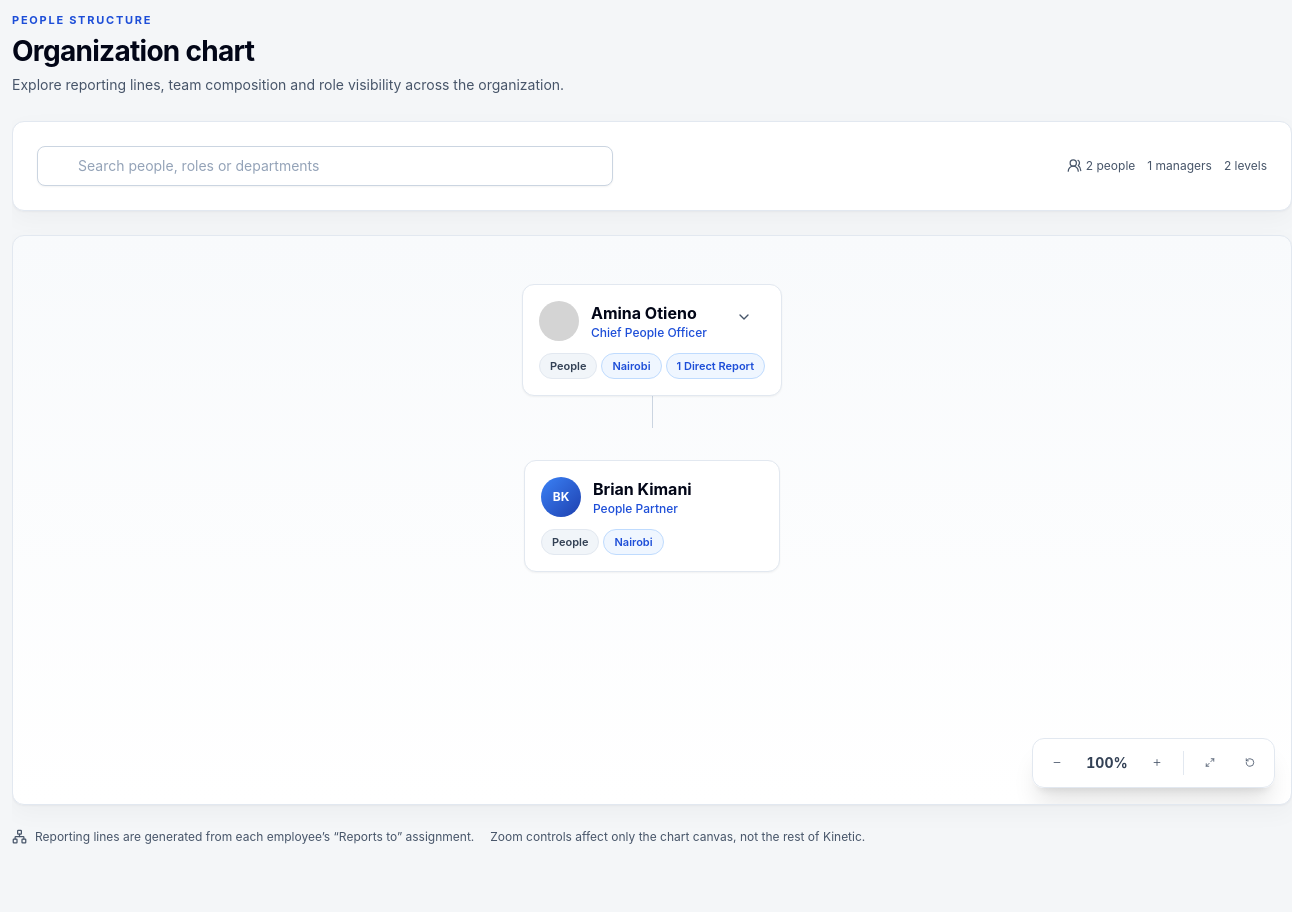
Scenario: resets the organization chart zoom to 100 percent
Expected: the link "Amina Otieno" is shown, [591,300,711,324]
Click the button named "Zoom out organization chart".
click(1057, 762)  # box [1039,744,1075,780]
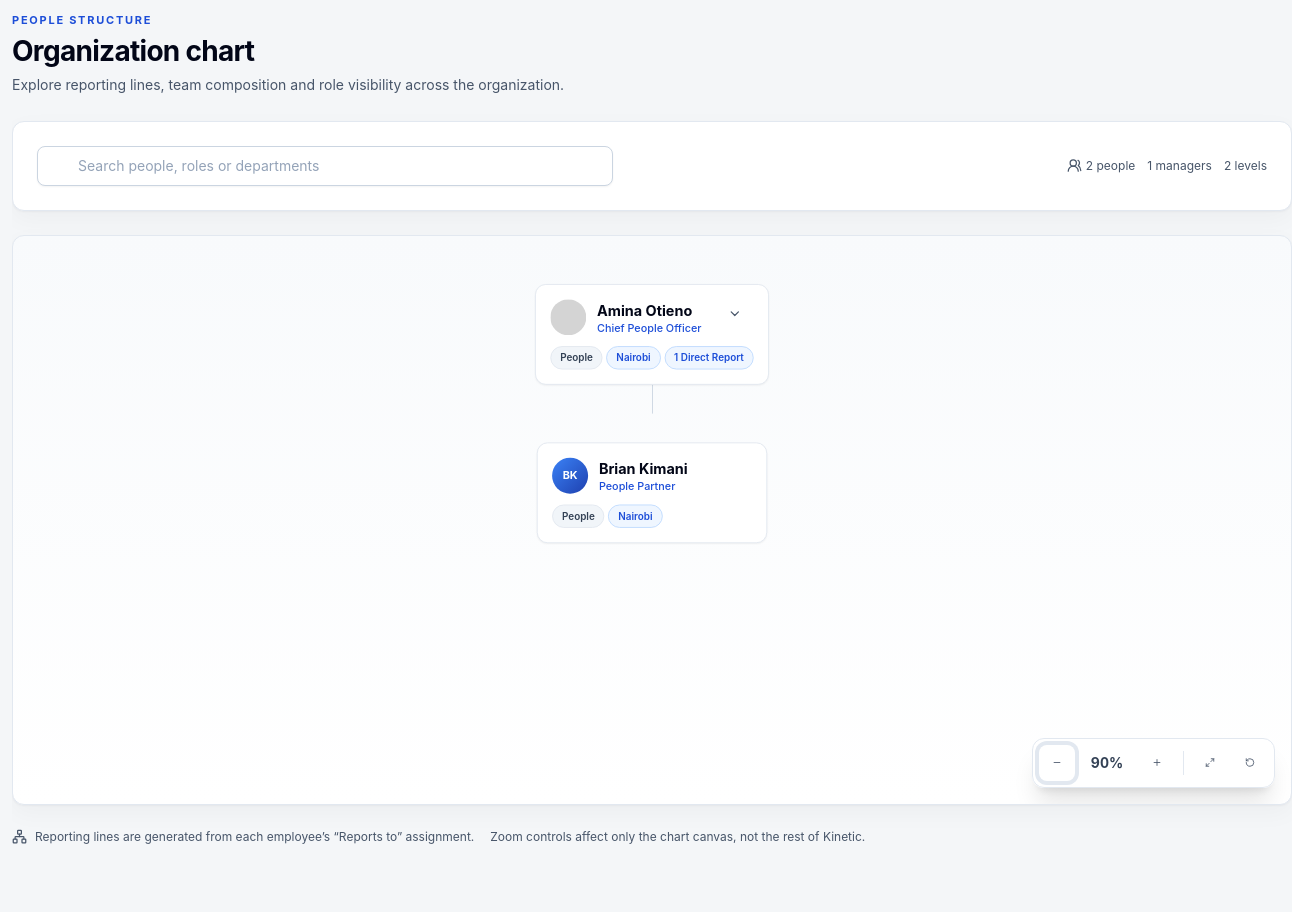
Now the text "90%" is shown, box [1091,754,1123,770]
Click the button named "Reset organization chart zoom".
click(1250, 762)  # box [1232,744,1268,780]
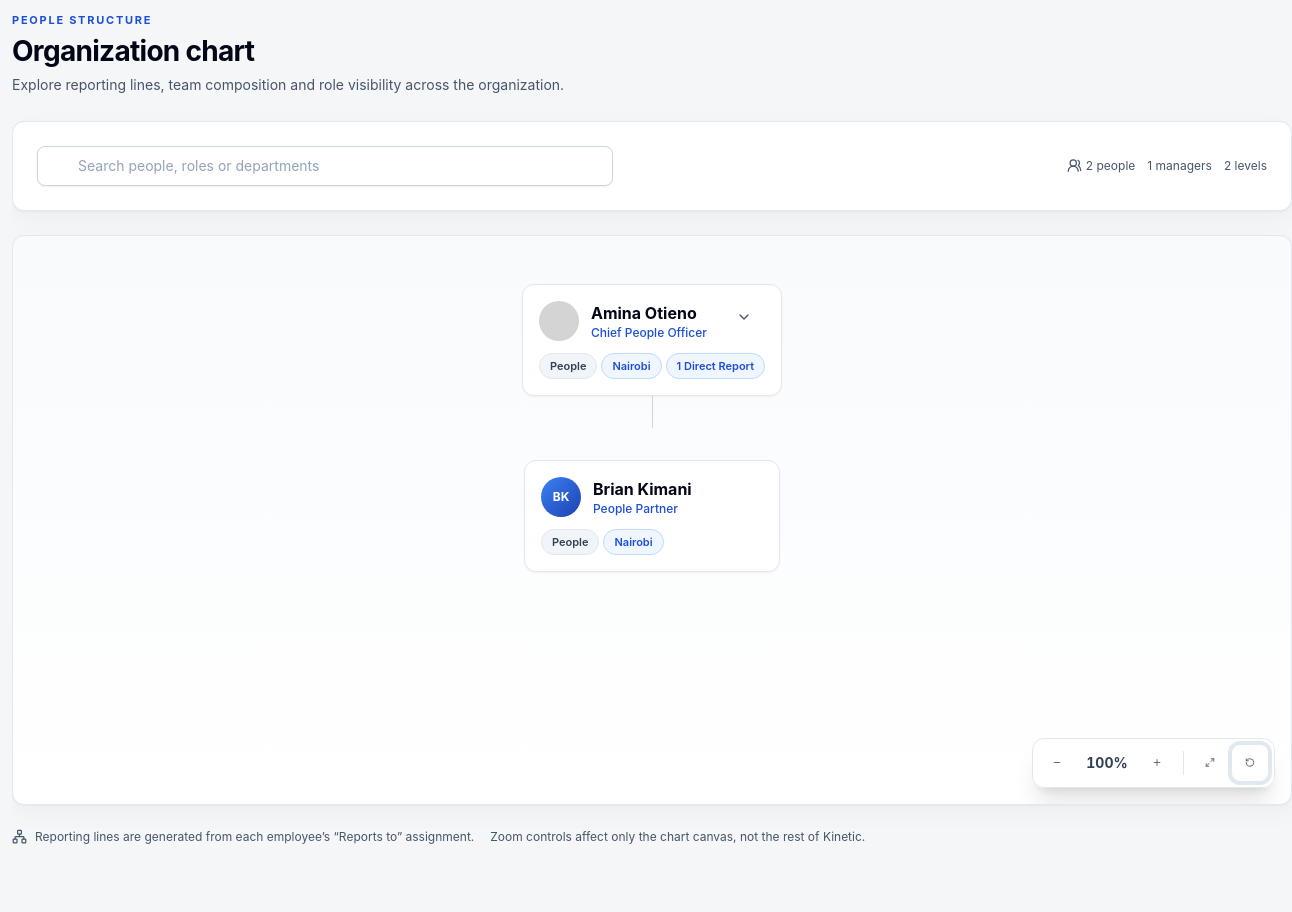
Now the text "100%" is shown, box [1086,754,1128,770]
